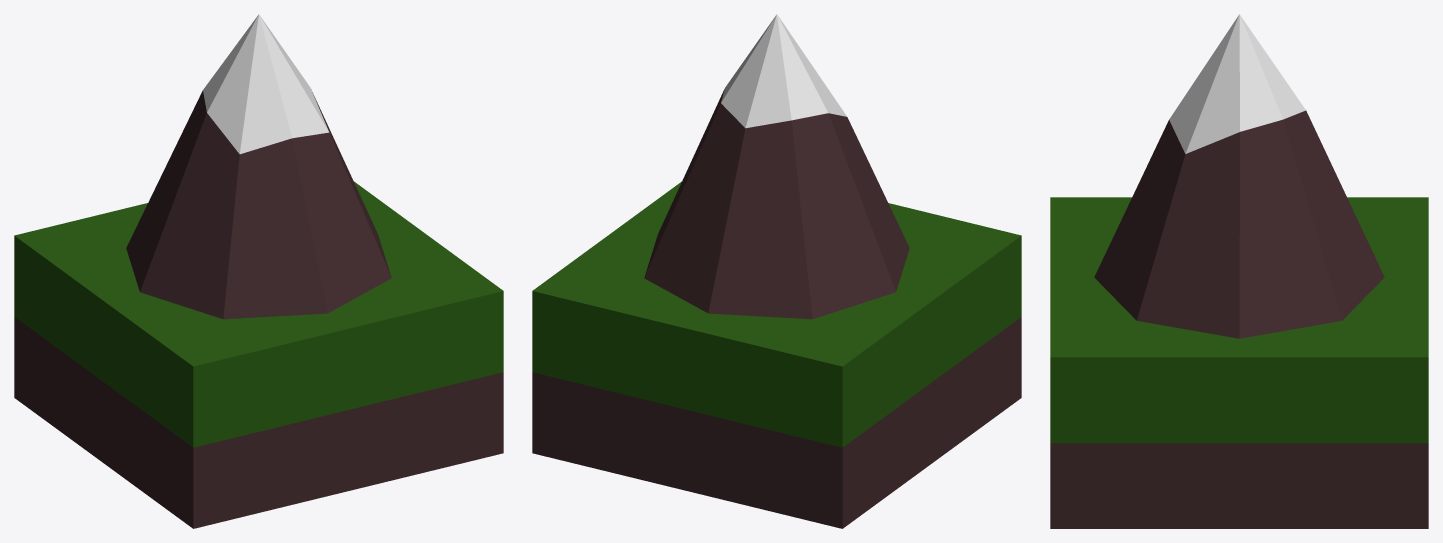
File: mountain.glb
The picture shows the model from 3 angles, left to right: view 1: azimuth 30°, elevation 25°; view 2: azimuth 150°, elevation 25°; view 3: azimuth 270°, elevation 25°; orthographic projection. The views are drawn at different scales.
Parts seen in each view (by area): view 1: Mountain; view 2: Mountain; view 3: Mountain.
Boxes of the visible parts, x1,y1,x2,y2 form: Mountain: (14, 14, 503, 528); Mountain: (532, 14, 1021, 528); Mountain: (1050, 14, 1428, 528).
Bounding box in the file's own units: 2 × 2.54 × 2.
